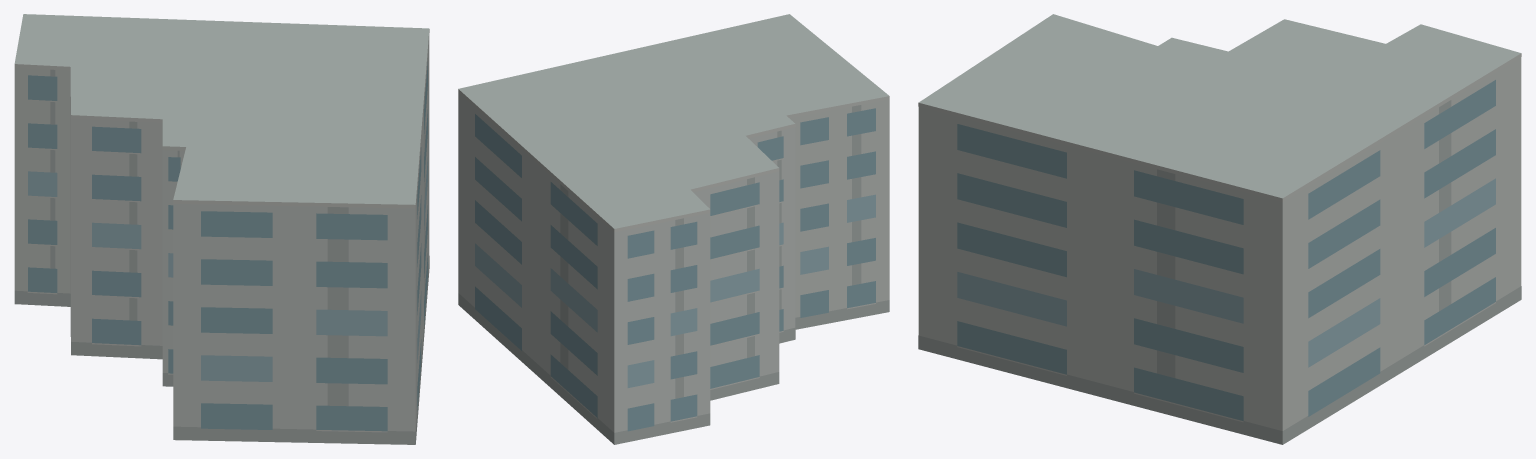
Rendered from survey-upis-32641769.glb.
The picture shows the model from 3 angles, left to right: view 1: azimuth 30°, elevation 25°; view 2: azimuth 150°, elevation 25°; view 3: azimuth 270°, elevation 25°; orthographic projection. The views are drawn at different scales.
Parts seen in each view (by area): view 1: survey-upis-32641769.tmp; view 2: survey-upis-32641769.tmp; view 3: survey-upis-32641769.tmp.
Boxes of the visible parts, x1=… form: survey-upis-32641769.tmp: x1=14, y1=14, x2=429, y2=444; survey-upis-32641769.tmp: x1=458, y1=14, x2=889, y2=444; survey-upis-32641769.tmp: x1=918, y1=14, x2=1521, y2=444.
Size of the model in its own units: 24.47 by 15.25 by 33.81.
